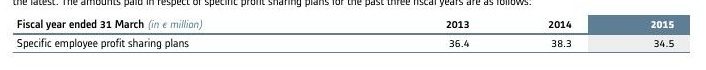table: (0, 0, 706, 70)
